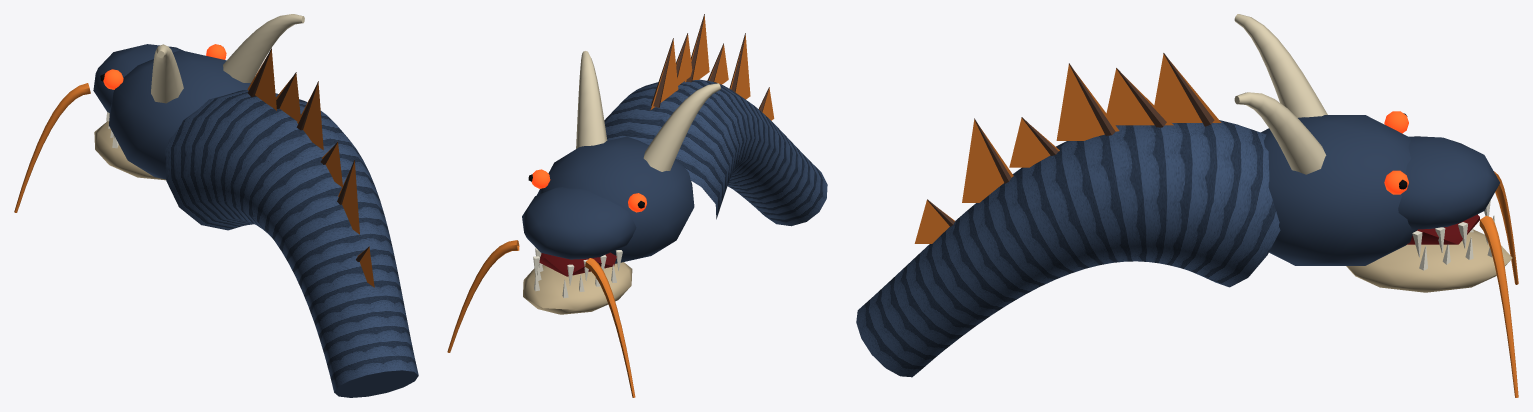
File: sea_king.glb
3 renders of one model, left to right at view 1: azimuth 30°, elevation 25°; view 2: azimuth 150°, elevation 25°; view 3: azimuth 270°, elevation 25°, orthographic. The views are drawn at different scales.
Parts seen in each view (by area): view 1: SeaKing; view 2: SeaKing; view 3: SeaKing.
Part boxes in pixels (<box>): SeaKing: <box>14,14,418,397</box>; SeaKing: <box>447,14,827,397</box>; SeaKing: <box>856,14,1518,397</box>.
Bounding box in the file's own units: 1.32 × 1.71 × 3.2.
Materials: 9 (1 with a texture image).
